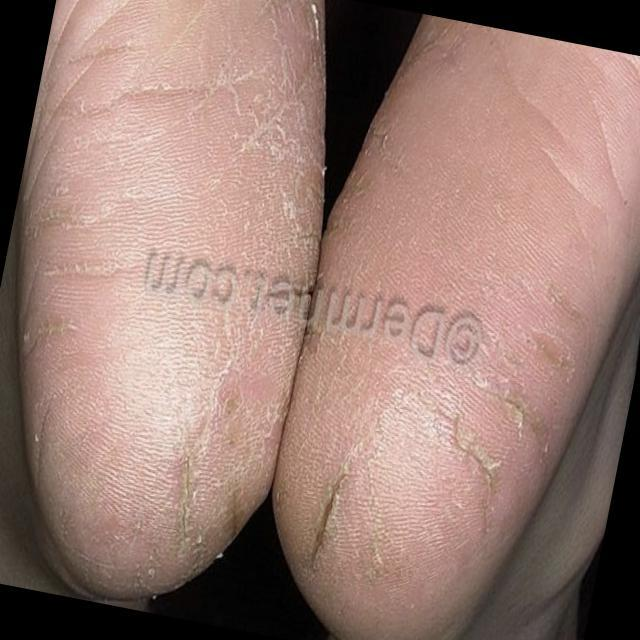Eczema: (58, 22, 307, 556), (294, 289, 568, 579)
